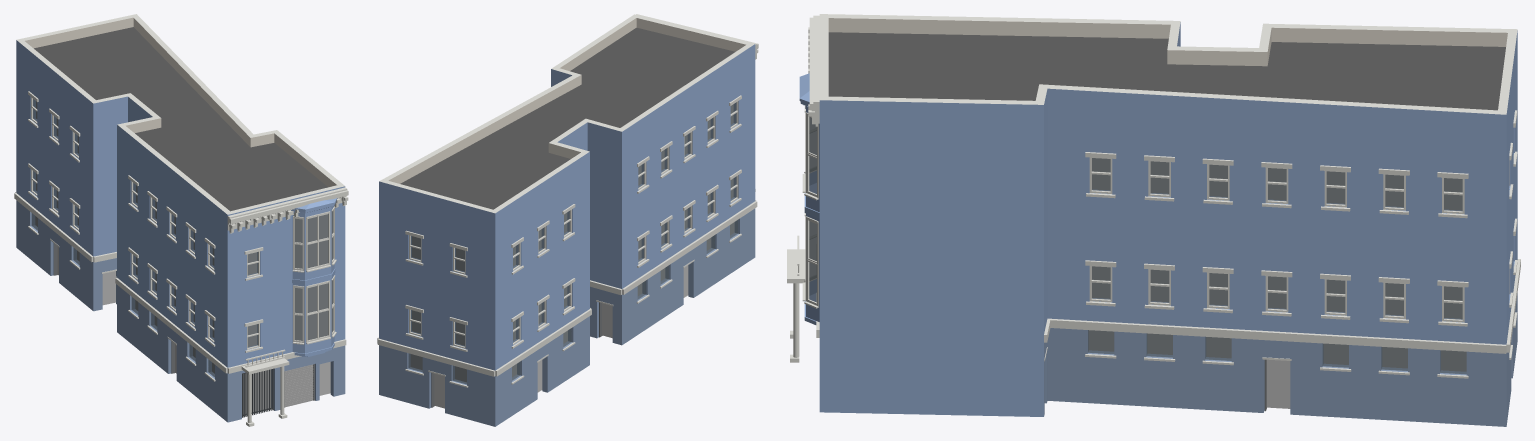
File: exterior.glb
3 renders of one model, left to right at view 1: azimuth 30°, elevation 25°; view 2: azimuth 150°, elevation 25°; view 3: azimuth 270°, elevation 25°, orthographic. The views are drawn at different scales.
Visible parts, largest first — view 1: shell, roof, trim, shadow-proxy, bay-glazing-hyb, storefront, glazing, bay-windows-hyb, frames, hand-ornament, front-dressing-r4; view 2: shell, roof, trim, glazing, shadow-proxy, frames, storefront; view 3: shell, roof, glazing, trim, shadow-proxy, frames, bay-glazing-hyb, bay-windows-hyb, hand-ornament.
Boxes of the visible parts, x1=… form: shell: x1=16, y1=14, x2=345, y2=422; roof: x1=34, y1=27, x2=327, y2=211; trim: x1=14, y1=91, x2=348, y2=381; shadow-proxy: x1=35, y1=101, x2=330, y2=414; bay-glazing-hyb: x1=292, y1=206, x2=336, y2=344; storefront: x1=50, y1=238, x2=314, y2=417; glazing: x1=32, y1=99, x2=257, y2=376; bay-windows-hyb: x1=291, y1=198, x2=337, y2=356; frames: x1=31, y1=97, x2=259, y2=349; hand-ornament: x1=241, y1=349, x2=289, y2=426; front-dressing-r4: x1=229, y1=196, x2=348, y2=233; shell: x1=379, y1=14, x2=755, y2=426; roof: x1=400, y1=27, x2=735, y2=209; trim: x1=377, y1=14, x2=758, y2=387; glazing: x1=408, y1=102, x2=737, y2=384; shadow-proxy: x1=411, y1=104, x2=734, y2=408; frames: x1=409, y1=101, x2=738, y2=348; storefront: x1=428, y1=259, x2=694, y2=407; shell: x1=819, y1=14, x2=1517, y2=426; roof: x1=828, y1=32, x2=1505, y2=110; glazing: x1=1088, y1=158, x2=1466, y2=374; trim: x1=809, y1=15, x2=1520, y2=378; shadow-proxy: x1=1089, y1=158, x2=1466, y2=408; frames: x1=1089, y1=157, x2=1509, y2=322; bay-glazing-hyb: x1=802, y1=105, x2=818, y2=308; bay-windows-hyb: x1=799, y1=73, x2=819, y2=324; hand-ornament: x1=787, y1=235, x2=805, y2=362.
Size of the model in its own units: 9.07 by 12.75 by 27.16.
